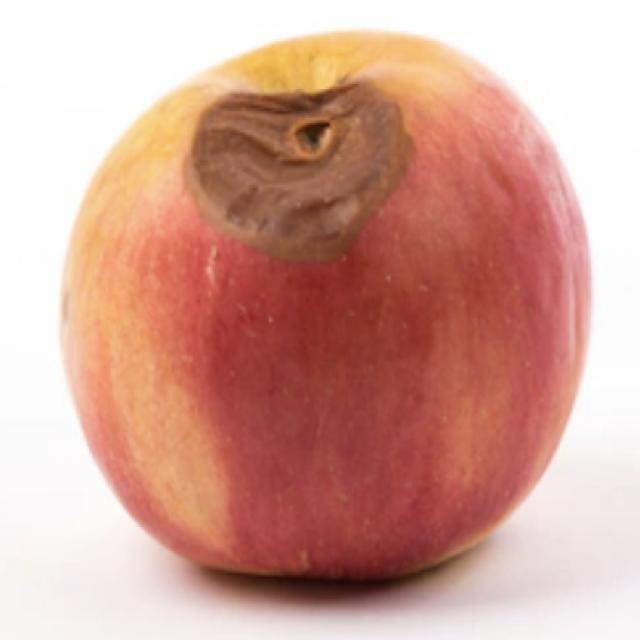Rotten: (59, 20, 591, 578)
